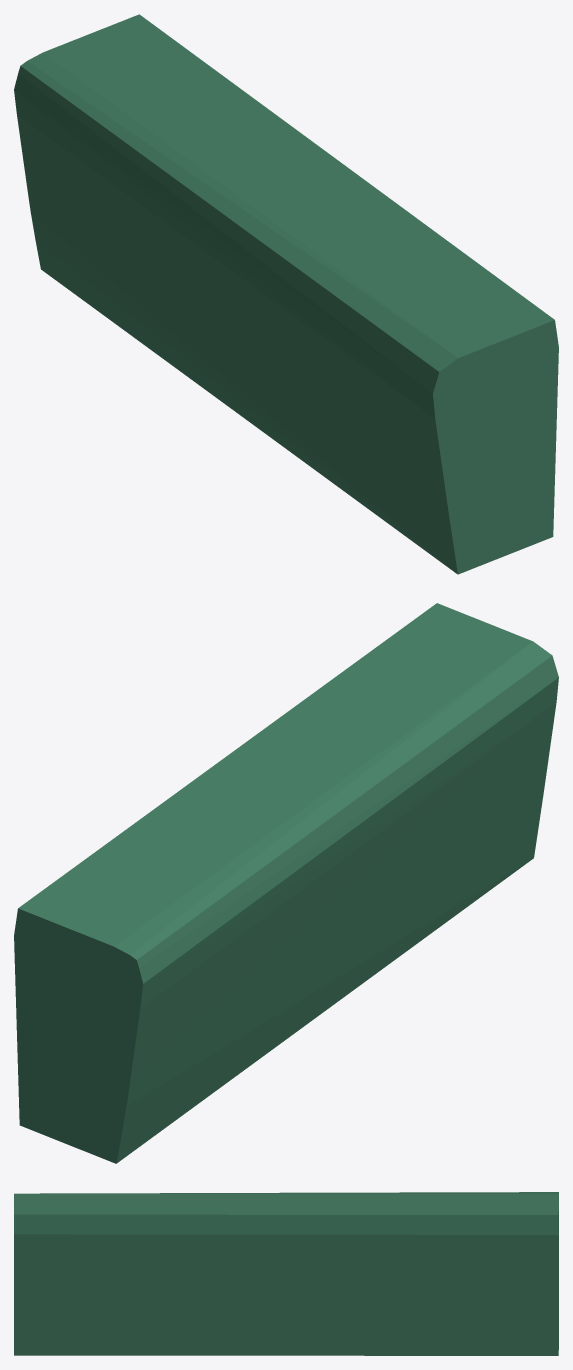
Rendered from converted_Downdraft_Assy_collision_43_447e63ff.obj.
3 renders of one model, top to bottom at view 1: azimuth 30°, elevation 25°; view 2: azimuth 150°, elevation 25°; view 3: azimuth 270°, elevation 25°, orthographic. The views are drawn at different scales.
Bounding box in the file's own units: 0.0798 × 0.1365 × 0.4464.
